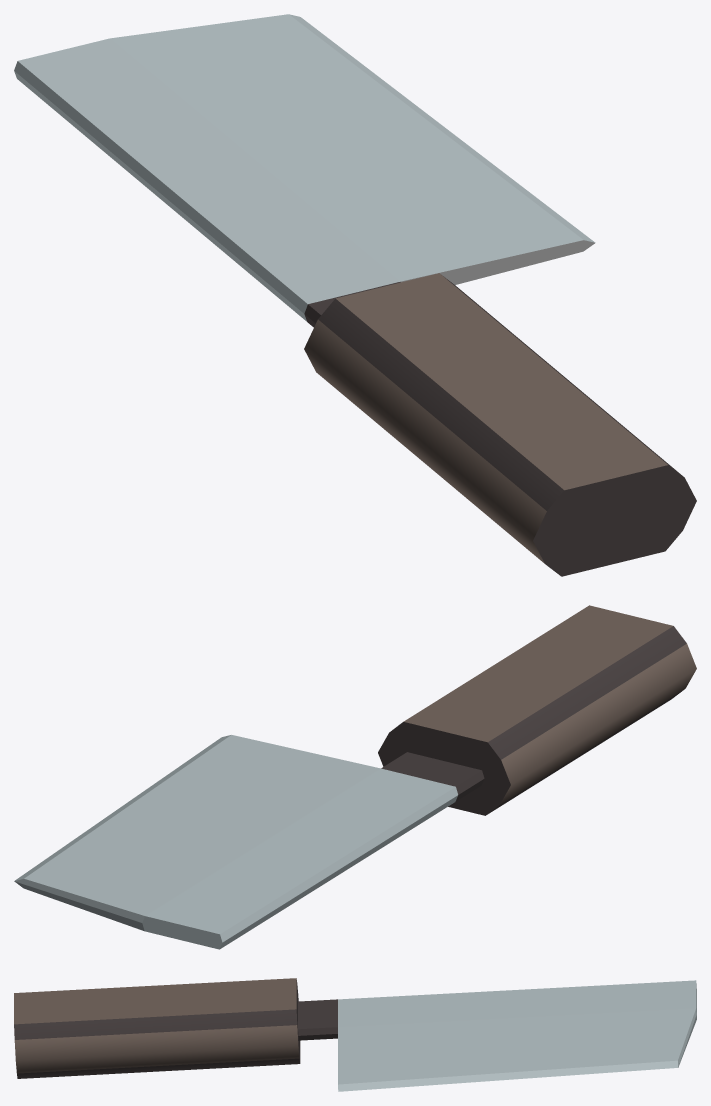
The model's file is knife.fbx.
The picture shows the model from 3 angles, top to bottom: view 1: azimuth 30°, elevation 25°; view 2: azimuth 150°, elevation 25°; view 3: azimuth 270°, elevation 25°; orthographic projection. The views are drawn at different scales.
Parts seen in each view (by area): view 1: pCube12; view 2: pCube12; view 3: pCube12.
Boxes of the visible parts, x1=… form: pCube12: x1=14, y1=14, x2=696, y2=576; pCube12: x1=14, y1=605, x2=696, y2=949; pCube12: x1=14, y1=978, x2=696, y2=1091.
Bounding box in the file's own units: 0.8328 × 0.277 × 2.46.
